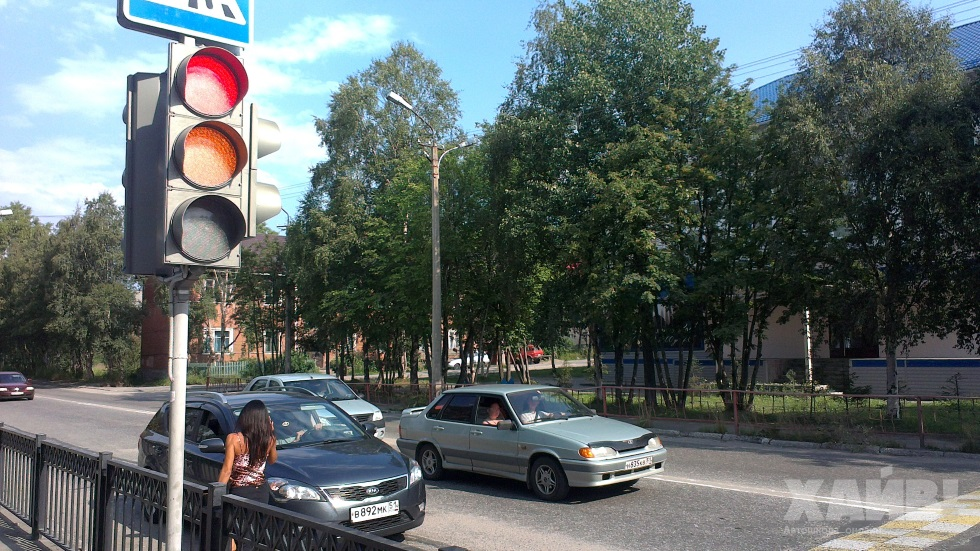tl: (160, 41, 255, 266)
